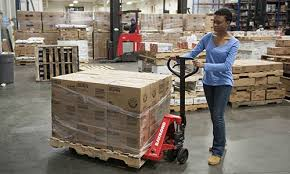Pallet Jack: (49, 56, 199, 171)
